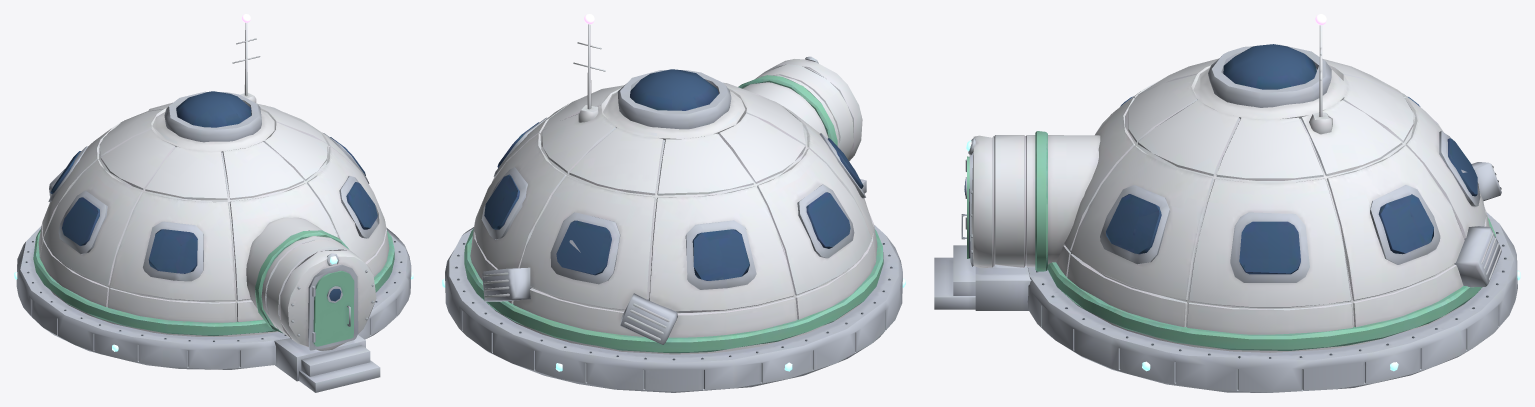
The model's file is habitat-dome.glb.
3 views of the same model, side by side, from view 1: azimuth 30°, elevation 25°; view 2: azimuth 150°, elevation 25°; view 3: azimuth 270°, elevation 25° (orthographic). The views are drawn at different scales.
Visible parts, largest first — view 1: habitat-dome_body, habitat-dome_airlock_door; view 2: habitat-dome_body; view 3: habitat-dome_body.
Part boxes in pixels (box(x1,y1,x2,y2)): habitat-dome_body: box(16, 22, 411, 392); habitat-dome_airlock_door: box(312, 270, 354, 346); habitat-dome_body: box(445, 24, 902, 392); habitat-dome_body: box(934, 25, 1517, 392).
Bounding box in the file's own units: 7.8 × 5.36 × 9.23.
4 materials, 2 textured.
